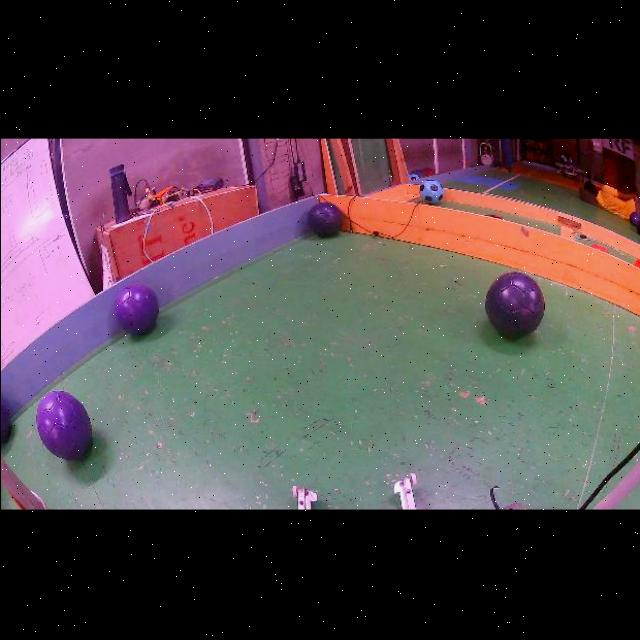B: (484, 271, 543, 337), (306, 201, 342, 236), (0, 399, 11, 442)
P: (35, 391, 91, 459), (114, 284, 158, 334)
